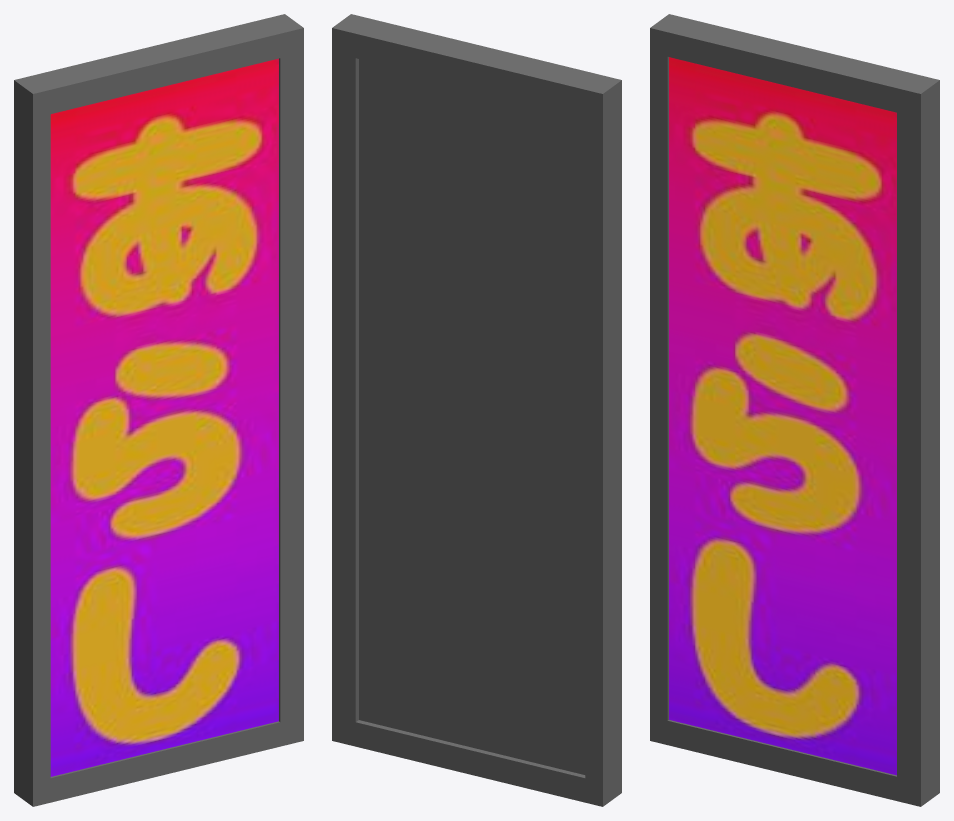
Rendered from Sign_4.glb.
3 renders of one model, left to right at view 1: azimuth 30°, elevation 25°; view 2: azimuth 150°, elevation 25°; view 3: azimuth 330°, elevation 25°, orthographic.
Parts seen in each view (by area): view 1: Sign_4; view 2: Sign_4; view 3: Sign_4.
Part boxes in pixels (box(x1,y1,x2,y2)): Sign_4: box(14, 14, 303, 806); Sign_4: box(332, 14, 621, 806); Sign_4: box(650, 14, 939, 806).
Size of the model in its own units: 0.5056 by 1.27 by 0.0618.
Materials: 2 (1 with a texture image).
